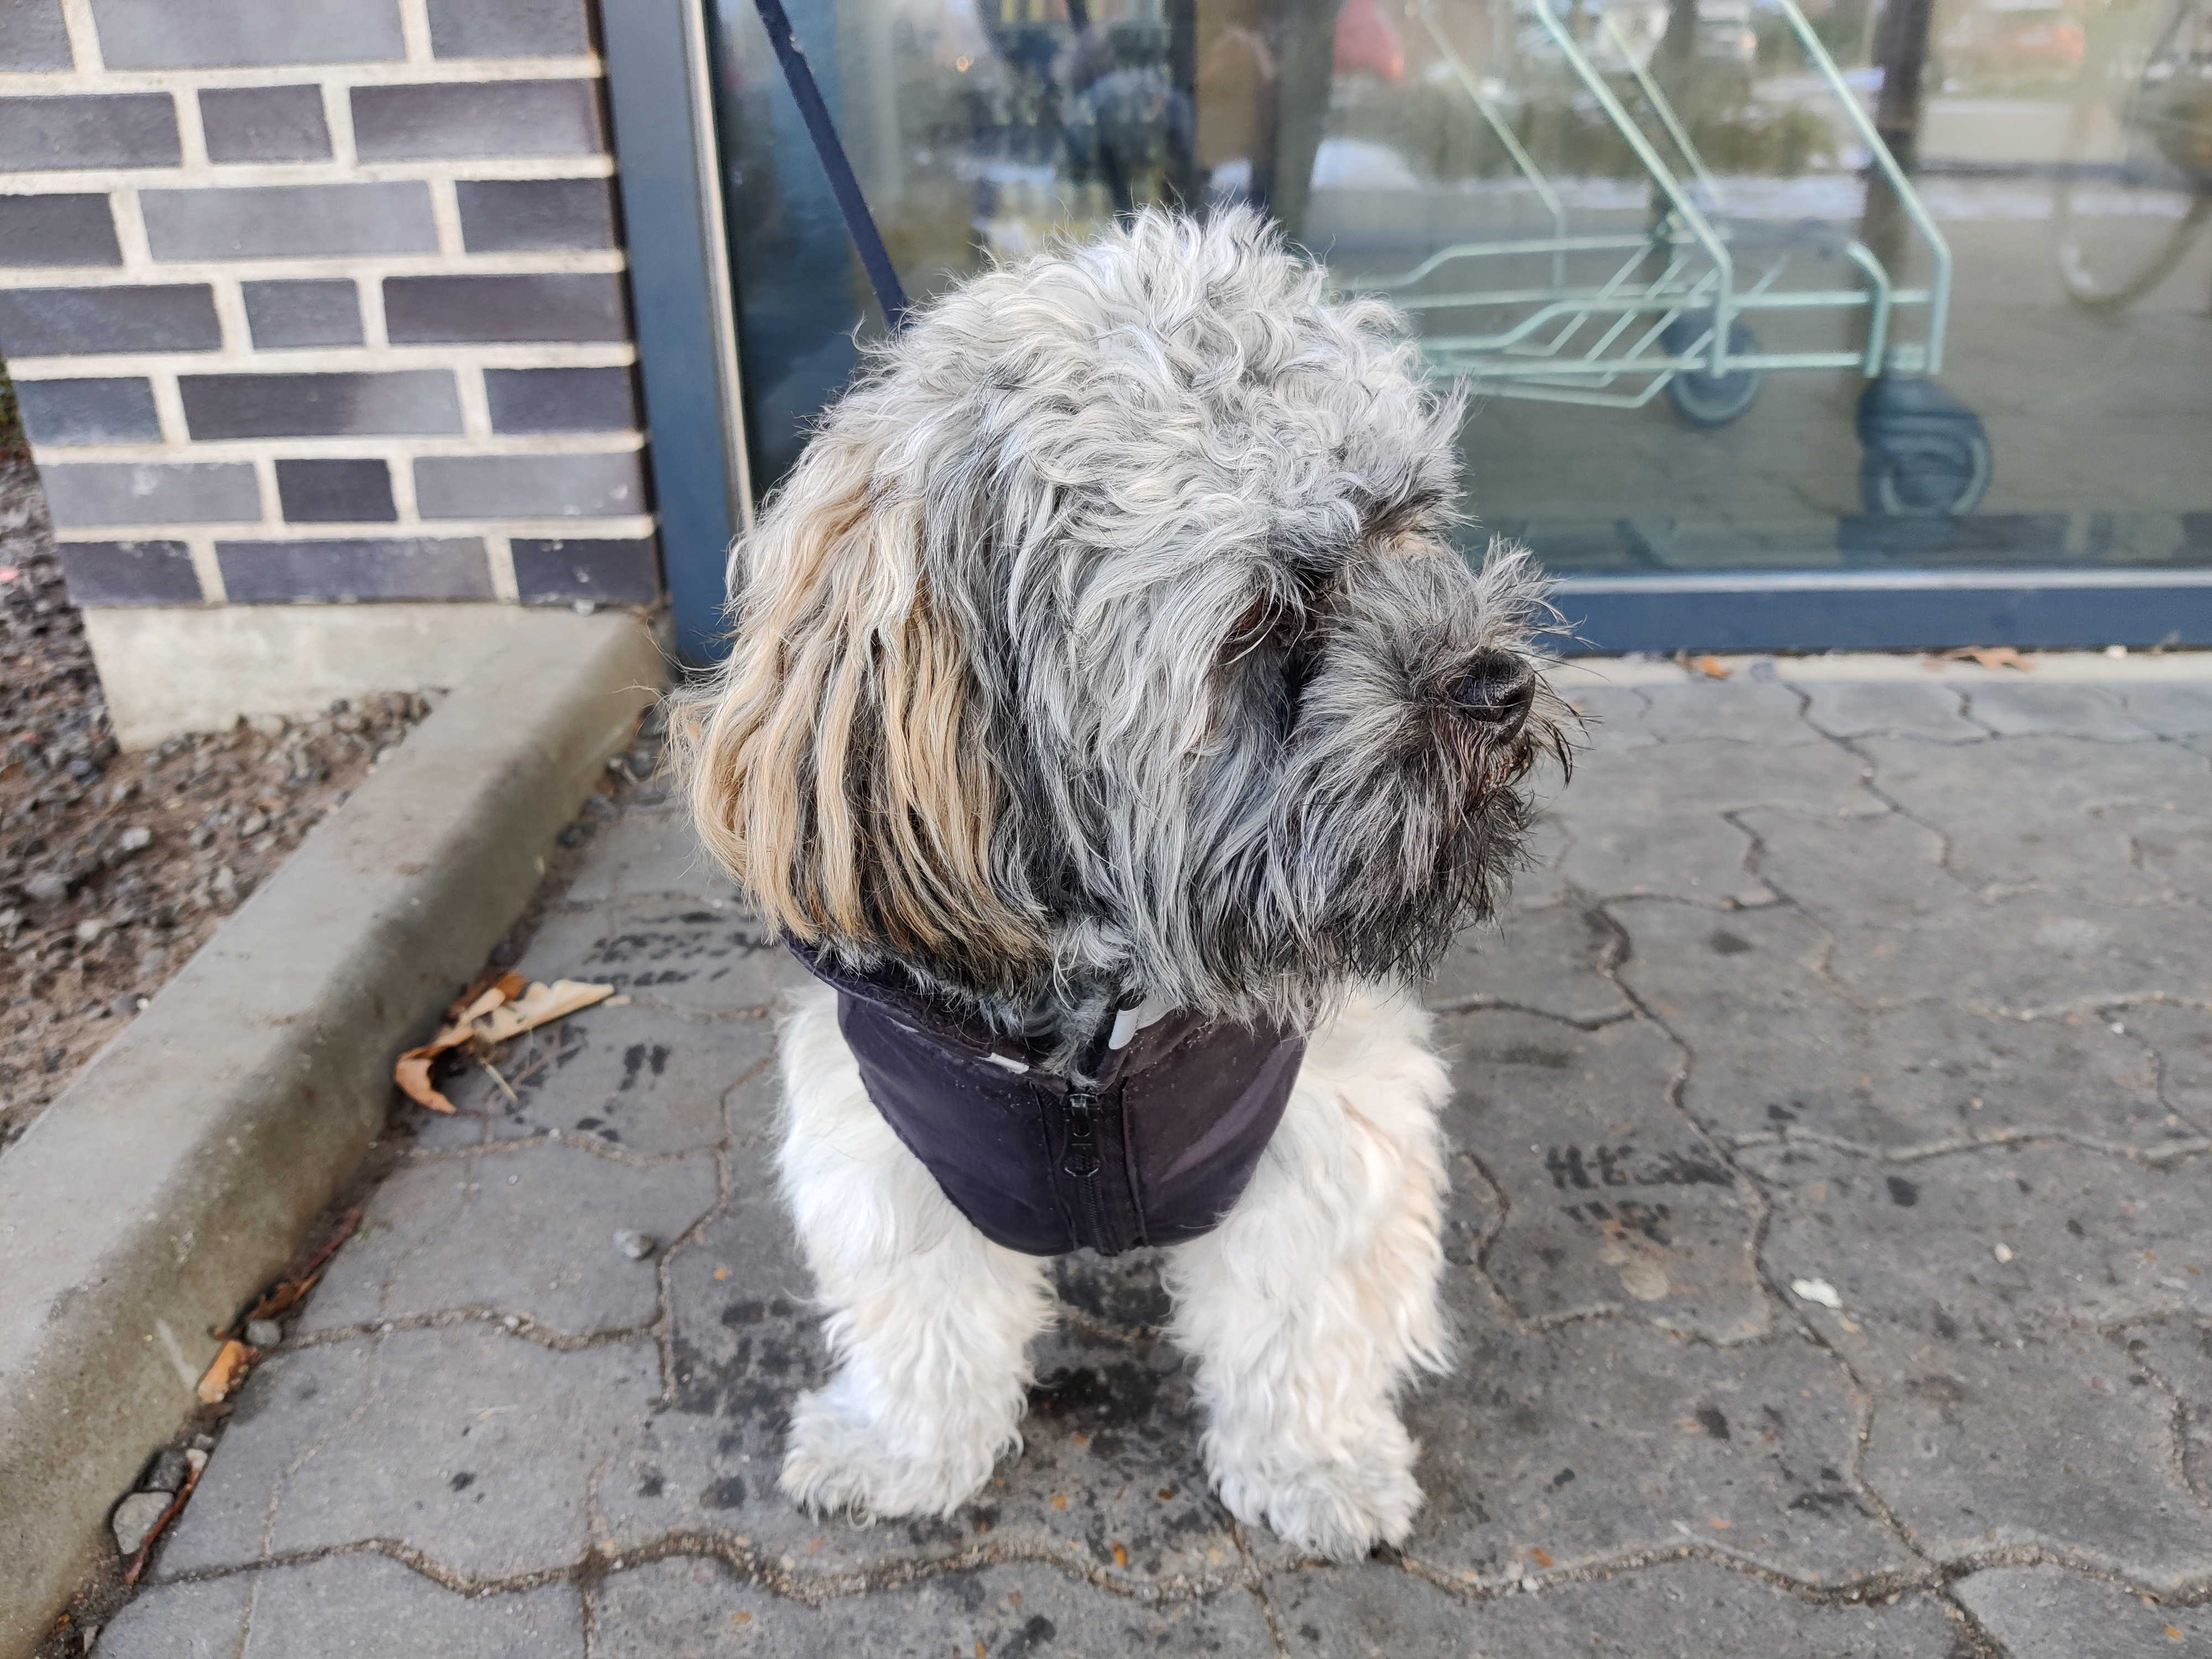Dog: (636, 185, 1637, 1567)
